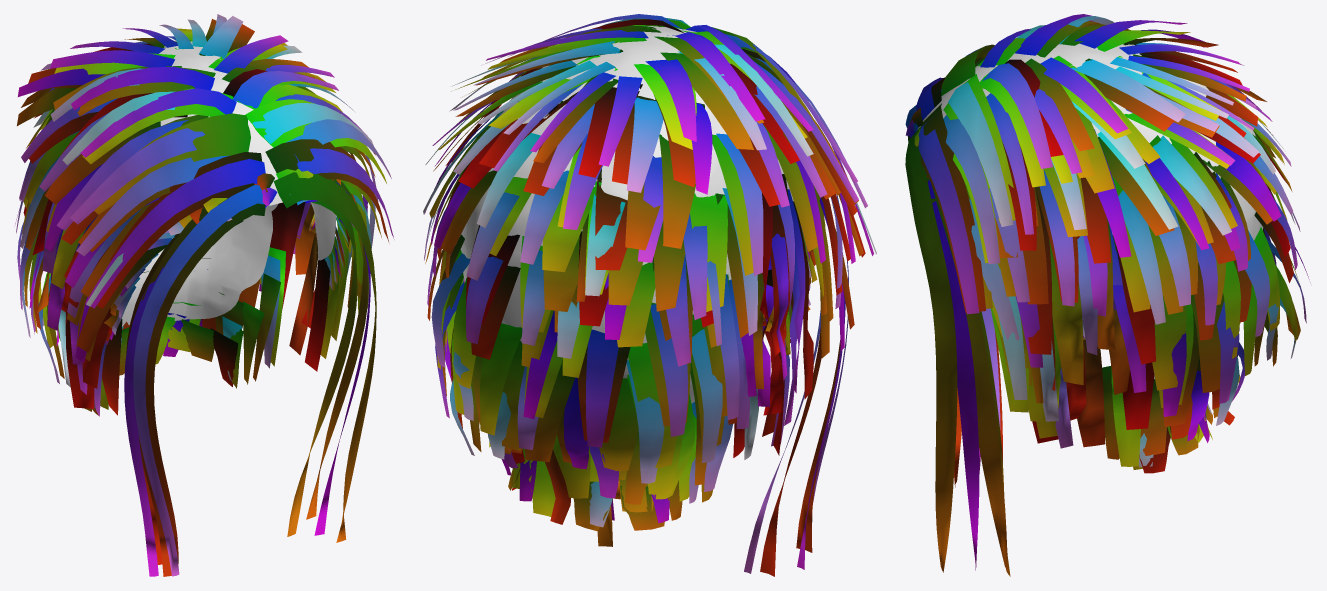
File: Sol_F55.fbx
The picture shows the model from 3 angles, left to right: view 1: azimuth 30°, elevation 25°; view 2: azimuth 150°, elevation 25°; view 3: azimuth 270°, elevation 25°; orthographic projection. The views are drawn at different scales.
Visible parts, largest first — view 1: Sol_F55_Cards, Sol_F55_Cap; view 2: Sol_F55_Cards, Sol_F55_Cap; view 3: Sol_F55_Cards, Sol_F55_Cap.
Part boxes in pixels (bbox=[...]): Sol_F55_Cards: bbox=[15, 14, 394, 576]; Sol_F55_Cap: bbox=[54, 40, 336, 326]; Sol_F55_Cards: bbox=[423, 14, 876, 576]; Sol_F55_Cap: bbox=[460, 26, 793, 403]; Sol_F55_Cards: bbox=[905, 14, 1310, 576]; Sol_F55_Cap: bbox=[917, 43, 1263, 378].
Size of the model in its own units: 19.25 by 27.16 by 20.14.
